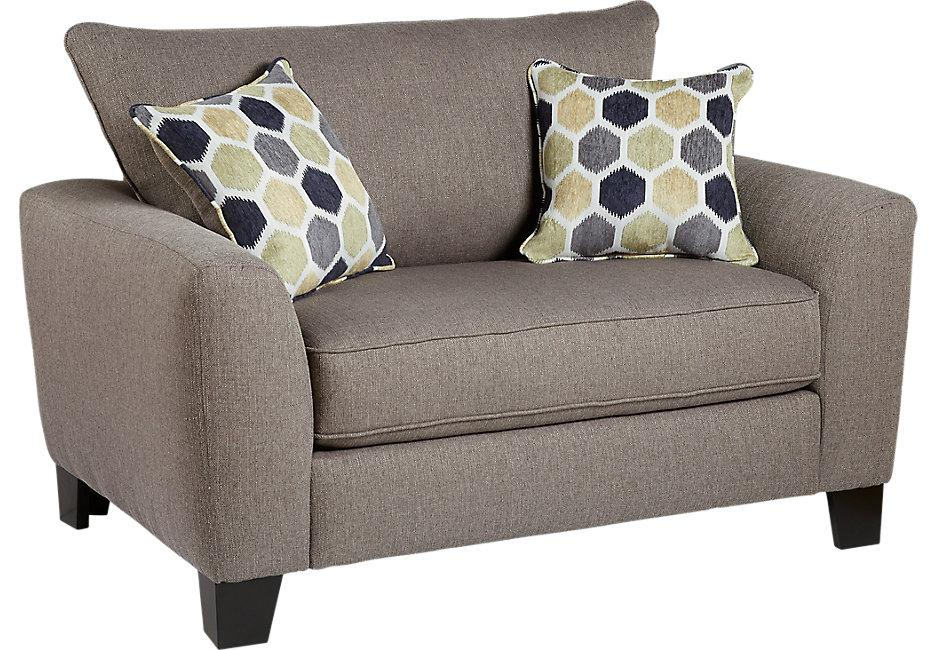chair: (18, 1, 914, 650)
